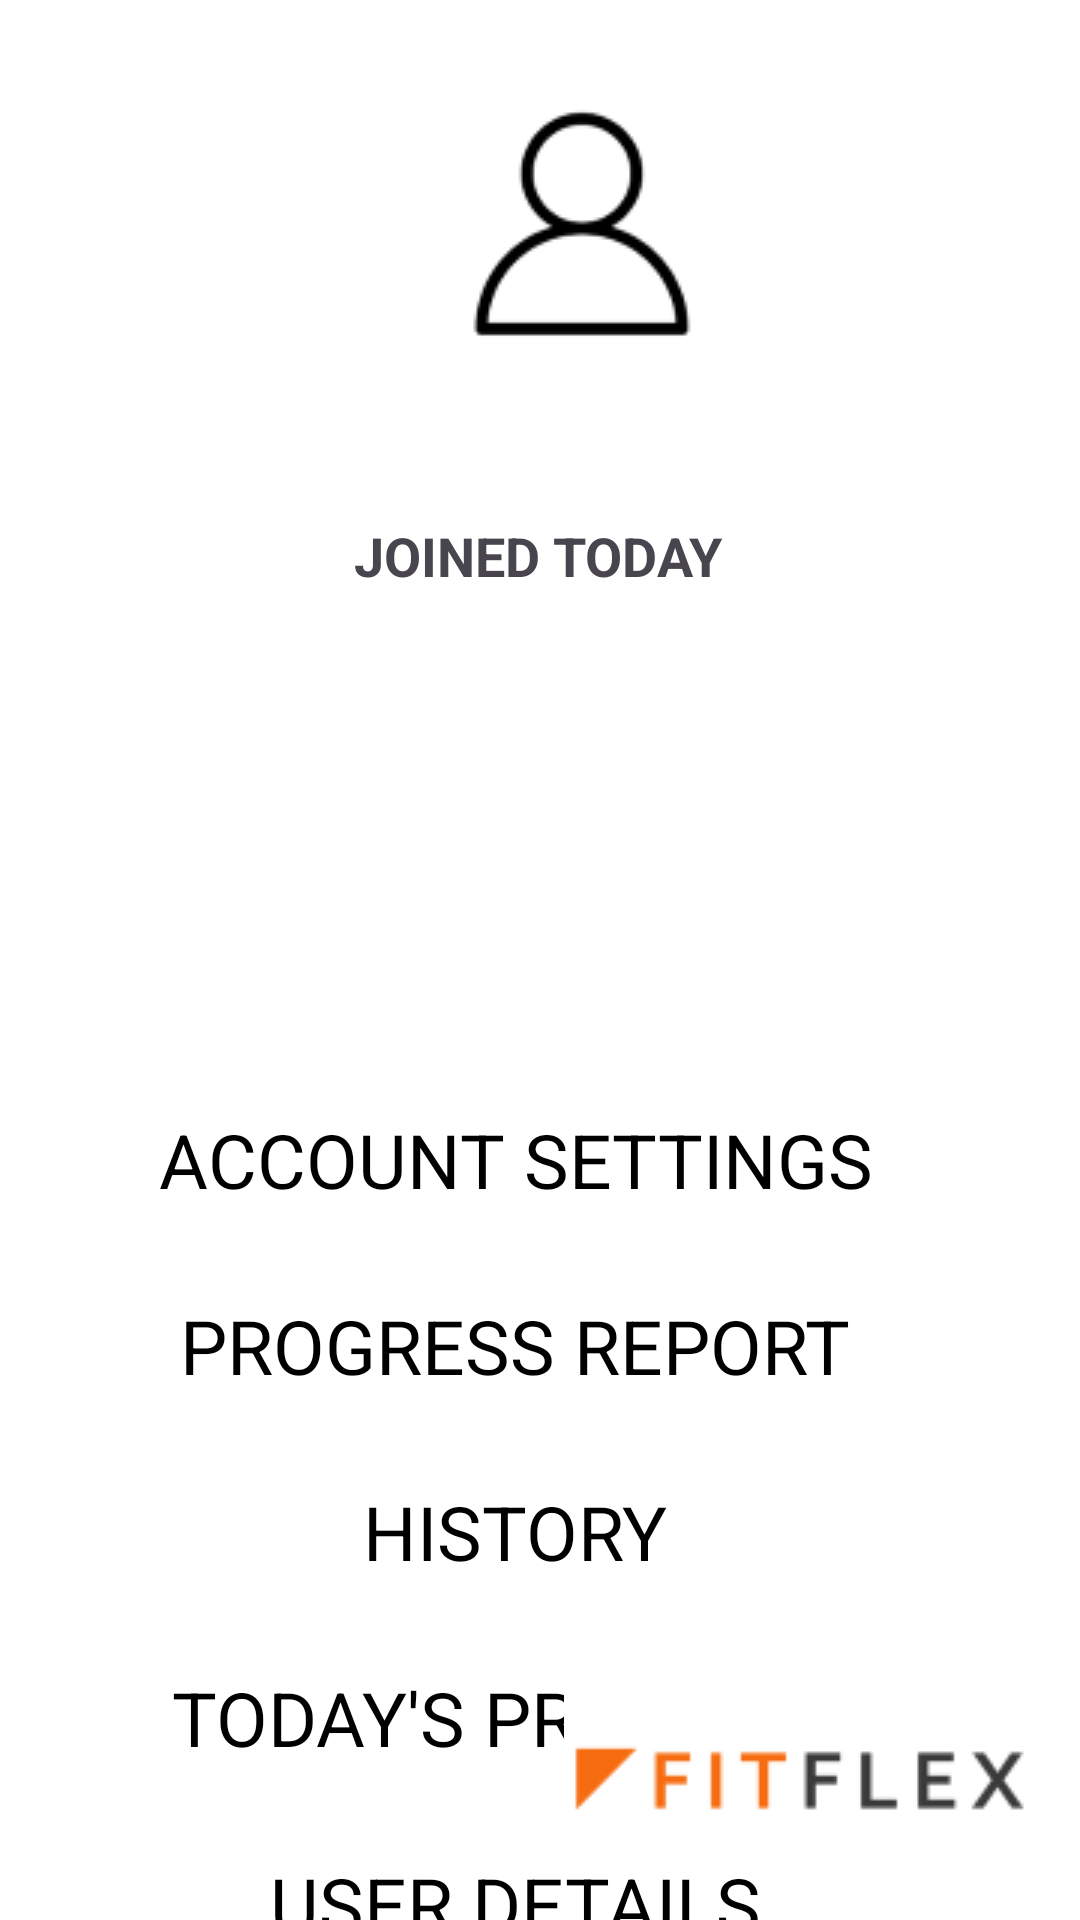

Named icons in this screenshot (1080px×1920px) and their centers, point (x, y):
accounticon: point (582, 224)
